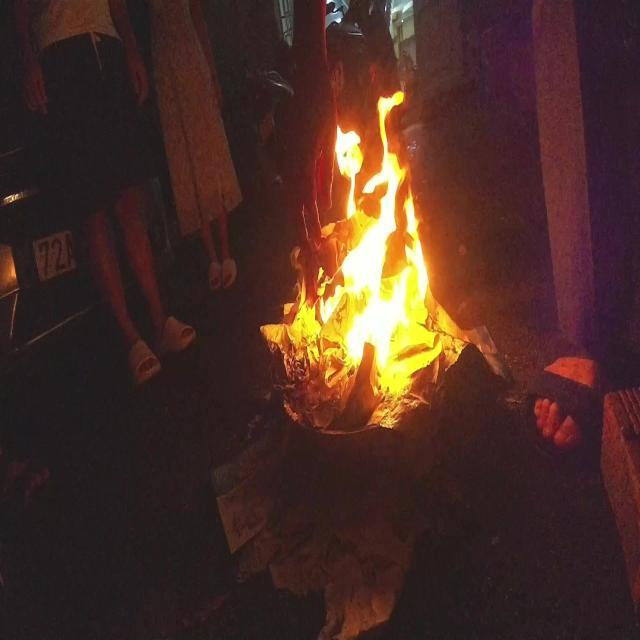Fire: (286, 89, 432, 424)
